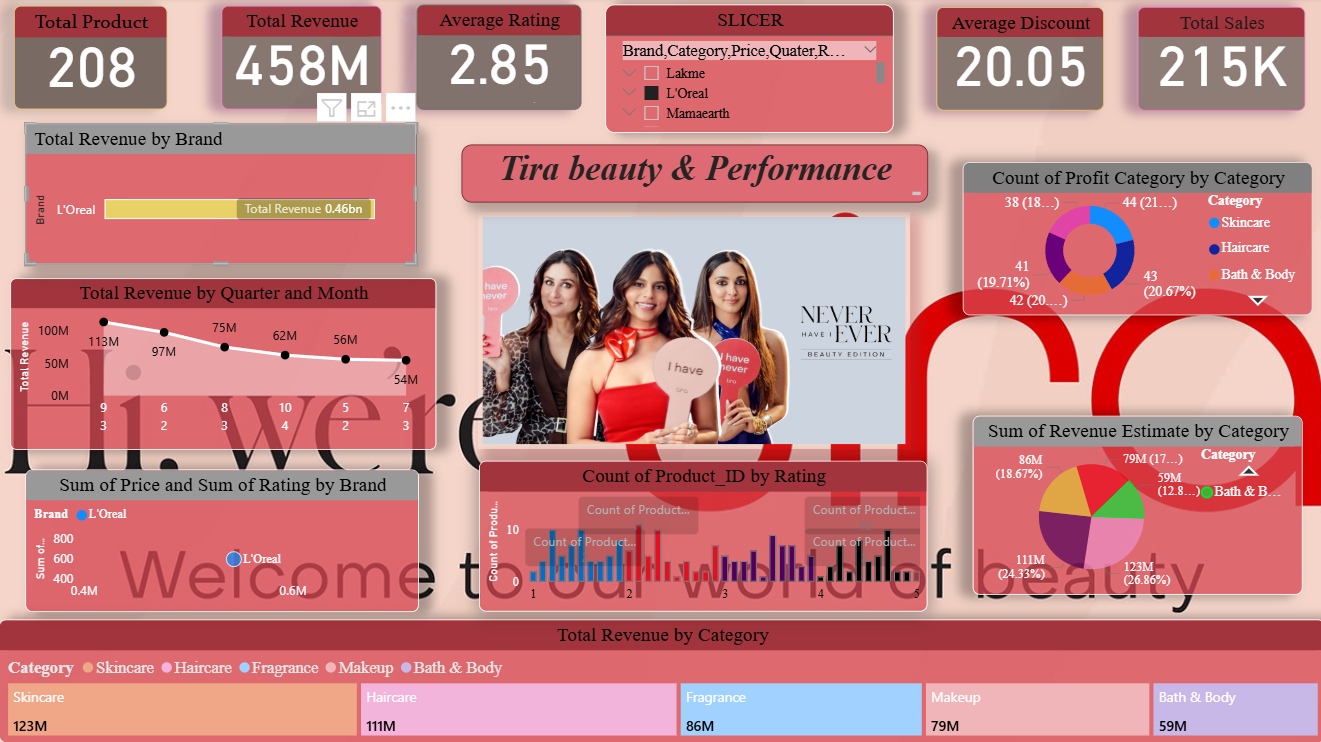

What the dashboard file says about the page in this screenshot:
{"tool":"powerbi","page":{"name":"Page 1","canvas":[1280,720],"ordinal":0},"visuals":[{"type":"card","title":"Average Rating","fields":{"Values":["Nykaa Data.Average Rating"]},"box":[403,7.2,159.3,101.3],"z":0},{"type":"card","title":"Average Discount","fields":{"Values":["Nykaa Data.Average Discount"]},"box":[904.8,9.7,161.7,100.1],"z":1000},{"type":"card","title":"Total Sales","fields":{"Values":["Nykaa Data.Total Sales"]},"box":[1099.1,9.7,161.7,100.1],"z":2000},{"type":"card","title":"Total Revenue","fields":{"Values":["Nykaa Data.Total Revenue"]},"box":[214.7,8.4,154.4,100.1],"z":3000},{"type":"card","title":"Total Product","fields":{"Values":["Tira beauty.Total Products"]},"box":[14.5,8.4,148.4,100.1],"z":4000},{"type":"lineChart","fields":{"Category":["Nykaa Data.Quarter","Nykaa Data.Month"],"Y":["Nykaa Data.Total Revenue"]},"box":[10.9,271.4,411.4,165.3],"z":5000},{"type":"treemap","fields":{"Group":["Nykaa Data.Category"],"Values":["Nykaa Data.Total Revenue"]},"box":[0,600.8,1280,119.4],"z":6000},{"type":"scatterChart","fields":{"X":["Sum(Nykaa Data.Price)"],"Y":["Sum(Nykaa Data.Rating)"],"Series":["Nykaa Data.Brand"]},"box":[25.3,456,380,137.5],"z":7000},{"type":"clusteredColumnChart","fields":{"Category":["Nykaa Data.Rating"],"Y":["CountNonNull(Nykaa Data.Product_ID)"]},"box":[463.3,447.6,433.1,146],"z":8000},{"type":"pieChart","fields":{"Category":["Nykaa Data.Category"],"Y":["Sum(Nykaa Data.Revenue Estimate)"]},"box":[939.8,404.2,318.5,172.5],"z":9000},{"type":"donutChart","fields":{"Y":["CountNonNull(Nykaa Data.Profit Category)"],"Category":["Nykaa Data.Category"]},"box":[930.2,159.3,337.8,148.4],"z":10000},{"type":"slicer","title":"SLICER","fields":{"Values":["Nykaa Data.Brand","Nykaa Data.Price","Nykaa Data.Category","Nykaa Data.Quarter","Nykaa Data.Rating"]},"box":[585.1,7.2,278.7,124.3],"z":11000},{"type":"image","box":[462.5,207.5,417.5,228.8],"z":12000},{"type":"barChart","fields":{"Y":["Tira beauty.Total Revenue"],"Category":["Tira beauty.Brand"]},"box":[25.3,121.9,377.6,136.3],"z":13000},{"type":"textbox","title":"Tira beauty & Performance","box":[446.2,142.5,450,56.2],"z":14000}]}

Visuals, with their boxes in screenshot pixels (x1, y1, x2, y2), scaled from the page's 1280x720 canvas onto the 1321x742 screenshot:
"Average Rating" card: x1=416, y1=7, x2=580, y2=112
"Average Discount" card: x1=934, y1=10, x2=1101, y2=113
"Total Sales" card: x1=1134, y1=10, x2=1301, y2=113
"Total Revenue" card: x1=222, y1=9, x2=381, y2=112
"Total Product" card: x1=15, y1=9, x2=168, y2=112
lineChart - Nykaa Data.Quarter x Nykaa Data.Month: x1=11, y1=280, x2=436, y2=450
treemap - Nykaa Data.Category x Nykaa Data.Total Revenue: x1=0, y1=619, x2=1320, y2=741
scatterChart - Sum(Nykaa Data.Price) x Sum(Nykaa Data.Rating): x1=26, y1=470, x2=418, y2=612
clusteredColumnChart - Nykaa Data.Rating x CountNonNull(Nykaa Data.Product_ID): x1=478, y1=461, x2=925, y2=612
pieChart - Nykaa Data.Category x Sum(Nykaa Data.Revenue Estimate): x1=970, y1=417, x2=1299, y2=594
donutChart - CountNonNull(Nykaa Data.Profit Category) x Nykaa Data.Category: x1=960, y1=164, x2=1309, y2=317
"SLICER" slicer: x1=604, y1=7, x2=891, y2=136
image: x1=477, y1=214, x2=908, y2=450
barChart - Tira beauty.Total Revenue x Tira beauty.Brand: x1=26, y1=126, x2=416, y2=266
"Tira beauty & Performance" textbox: x1=460, y1=147, x2=925, y2=205
